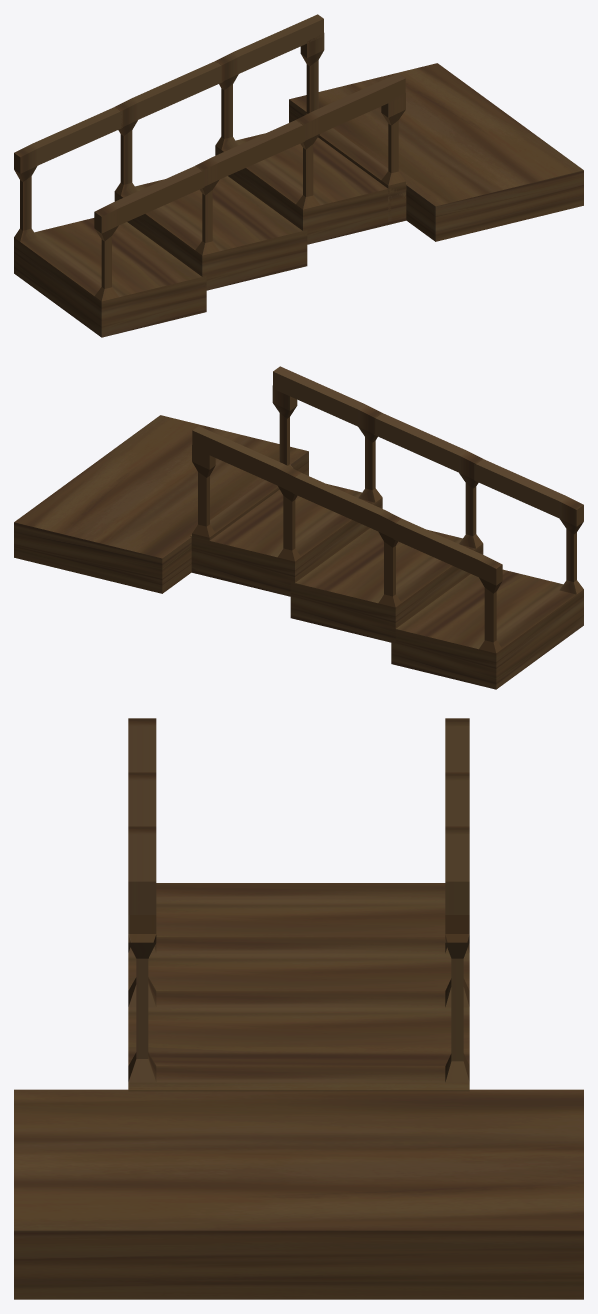
File: stairs.fbx
3 renders of one model, top to bottom at view 1: azimuth 30°, elevation 25°; view 2: azimuth 150°, elevation 25°; view 3: azimuth 270°, elevation 25°, orthographic. The views are drawn at different scales.
Parts seen in each view (by area): view 1: Cube, Cube.001; view 2: Cube, Cube.001; view 3: Cube.001, Cube.
Boxes of the visible parts, box(x1,y1,x2,y2) form: Cube: box(14, 14, 407, 337); Cube.001: box(289, 63, 583, 241); Cube: box(190, 366, 583, 689); Cube.001: box(14, 415, 308, 593); Cube.001: box(14, 1089, 583, 1299); Cube: box(128, 718, 469, 1091).
Size of the model in its own units: 722 by 282 by 404.
